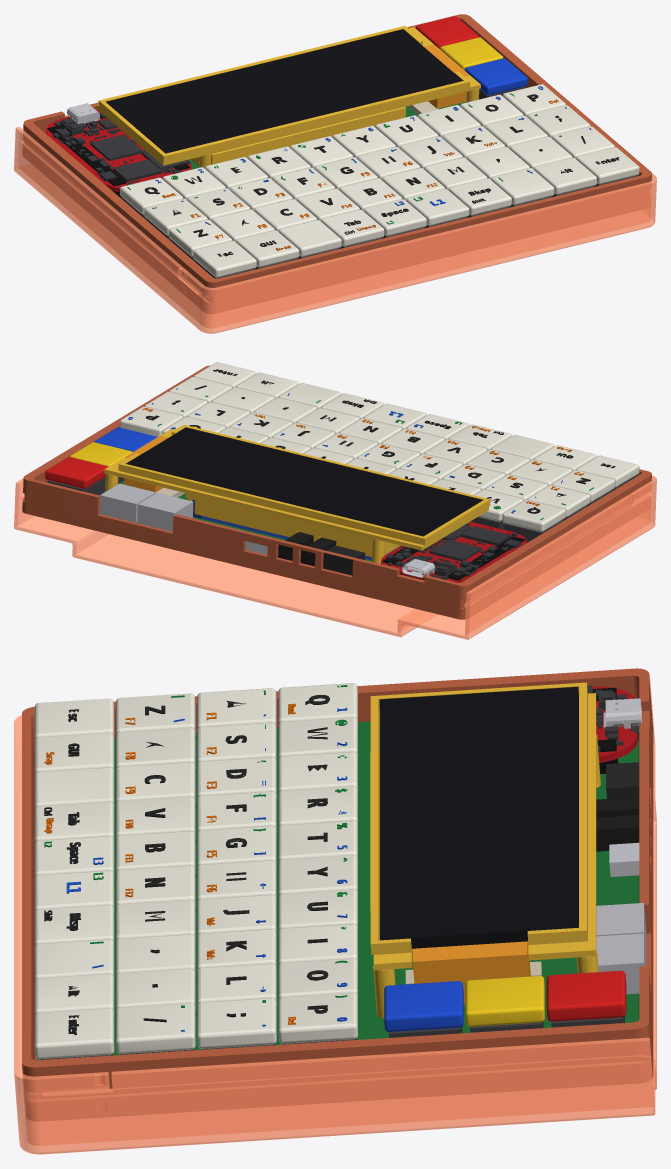
File: cradle_terracotta.glb
The picture shows the model from 3 angles, top to bottom: view 1: azimuth 30°, elevation 25°; view 2: azimuth 150°, elevation 25°; view 3: azimuth 270°, elevation 25°; orthographic projection. The views are drawn at different scales.
Parts seen in each view (by area): view 1: Internals, Lid, Tray; view 2: Internals, Lid, Tray; view 3: Internals, Lid, Tray.
Part boxes in pixels (x1,y1,x2,y2): Internals: [46, 16, 639, 278]; Lid: [14, 127, 656, 333]; Tray: [23, 14, 651, 313]; Internals: [45, 362, 639, 582]; Lid: [14, 475, 656, 639]; Tray: [22, 365, 651, 619]; Internals: [34, 682, 646, 1060]; Lid: [14, 672, 656, 1154]; Tray: [22, 668, 653, 1120].
Bounding box in the file's own units: 0.1818 × 0.0365 × 0.1342.
